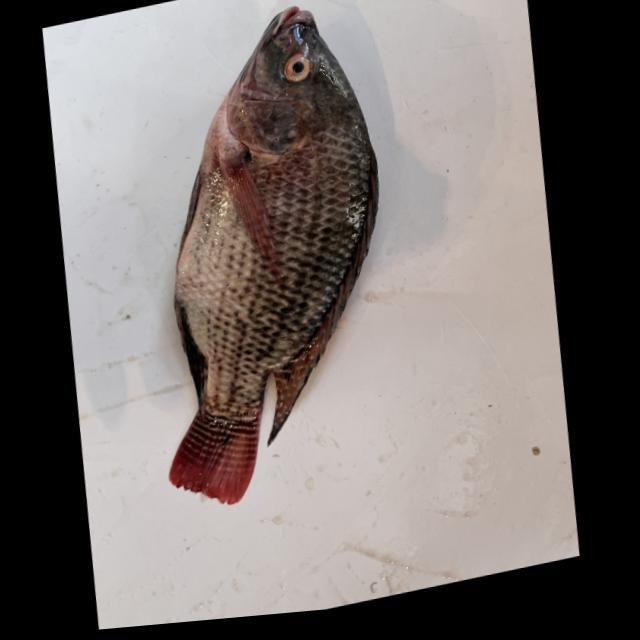Tilapia: (116, 0, 413, 523)
